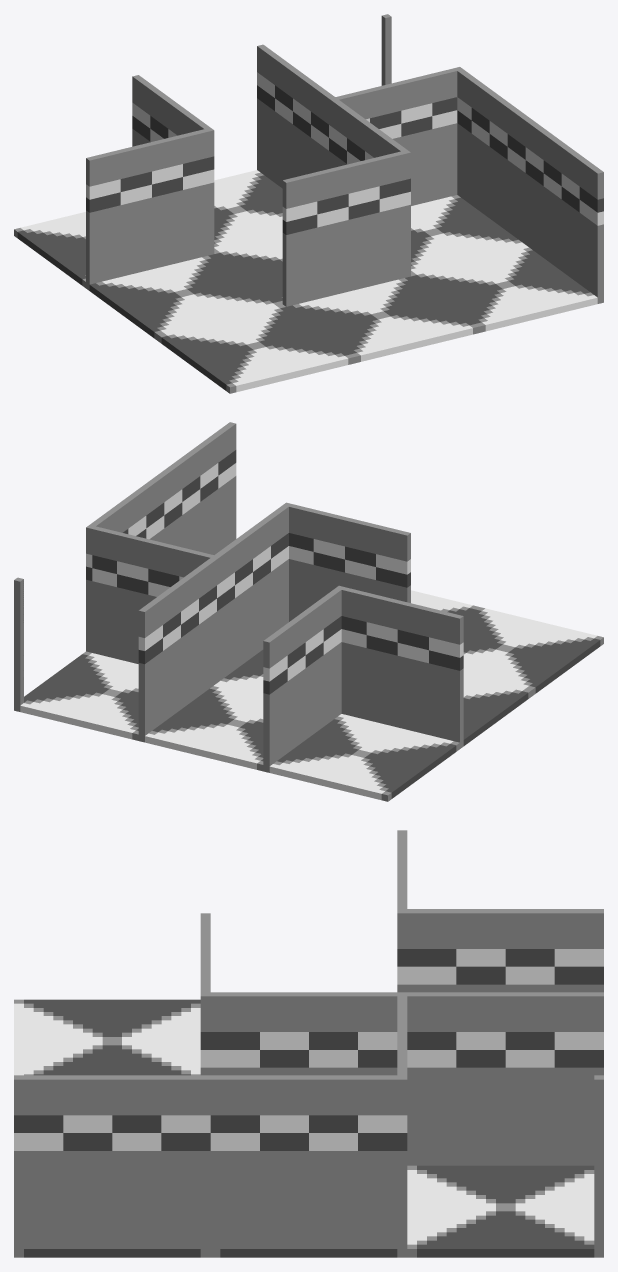
The model's file is level_maze-17.obj.
3 renders of one model, top to bottom at view 1: azimuth 30°, elevation 25°; view 2: azimuth 150°, elevation 25°; view 3: azimuth 270°, elevation 25°, orthographic. The views are drawn at different scales.
Visible parts, largest first — view 1: level_maze-17; view 2: level_maze-17; view 3: level_maze-17.
Boxes of the visible parts, <box> form: level_maze-17: <box>14,14,603,393</box>; level_maze-17: <box>14,422,603,801</box>; level_maze-17: <box>14,830,603,1257</box>.
Size of the model in its own units: 60 by 20 by 60.
1 material, 1 textured.
